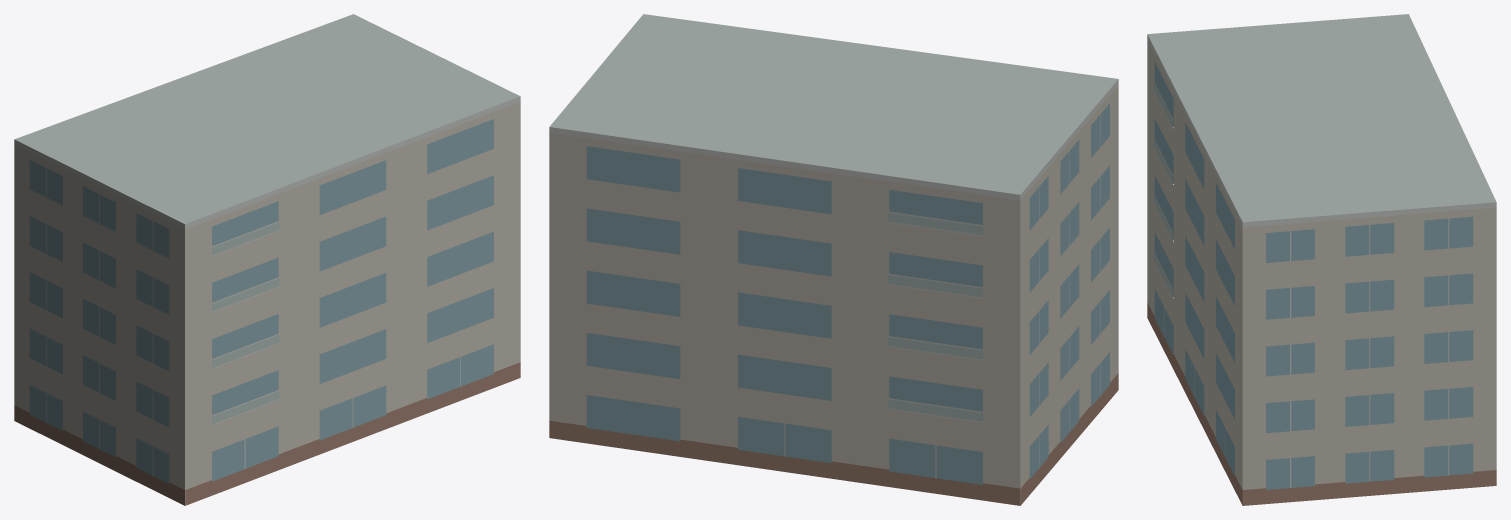
Rendered from survey-upis-32619848.glb.
3 renders of one model, left to right at view 1: azimuth 30°, elevation 25°; view 2: azimuth 150°, elevation 25°; view 3: azimuth 270°, elevation 25°, orthographic. The views are drawn at different scales.
Visible parts, largest first — view 1: survey-upis-32619848.tmp; view 2: survey-upis-32619848.tmp; view 3: survey-upis-32619848.tmp.
Part boxes in pixels (left/top/right/bottom): survey-upis-32619848.tmp: left=14, top=14, right=520, bottom=505; survey-upis-32619848.tmp: left=549, top=14, right=1118, bottom=505; survey-upis-32619848.tmp: left=1147, top=14, right=1496, bottom=505.
Bounding box in the file's own units: 20.64 × 13.1 × 14.63.
